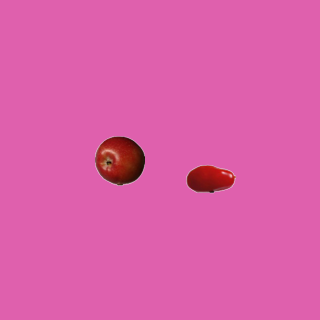Apple Braeburn: (94, 135, 144, 185)
Tomato 2: (185, 153, 235, 203)
